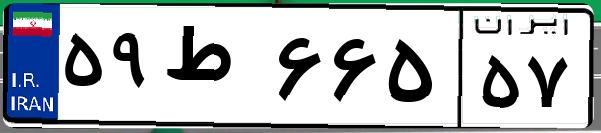5: (385, 28, 445, 110), (57, 26, 110, 100), (475, 38, 525, 113)
6: (270, 28, 330, 110), (330, 28, 385, 110)
7: (525, 38, 570, 115)
9: (110, 28, 158, 98)
ط: (158, 20, 270, 120)
